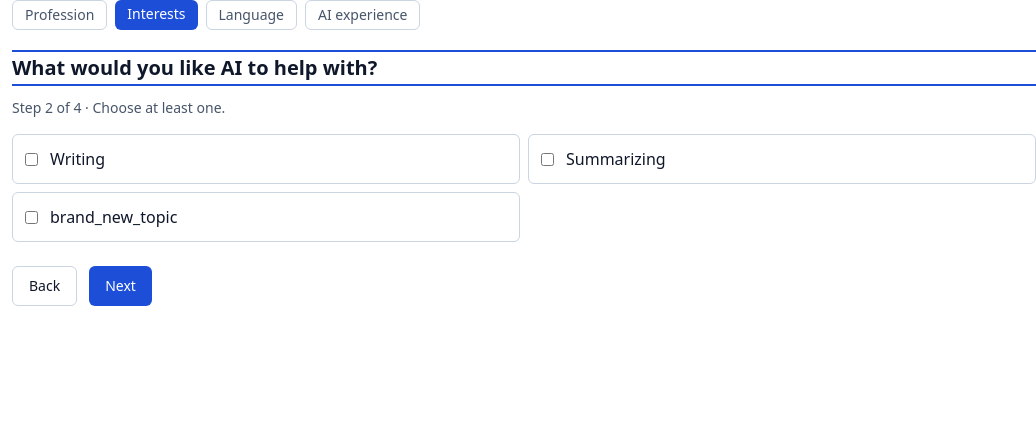
Scenario: OnboardingStepper › collects interests, names the ones it has text for, and shows other codes as they are
Expected: the heading "What would you like AI to help with?" is shown, [12,54,377,81]
Click the checkbox labelled "Writing".
click(32, 159)  # box [25,152,38,166]
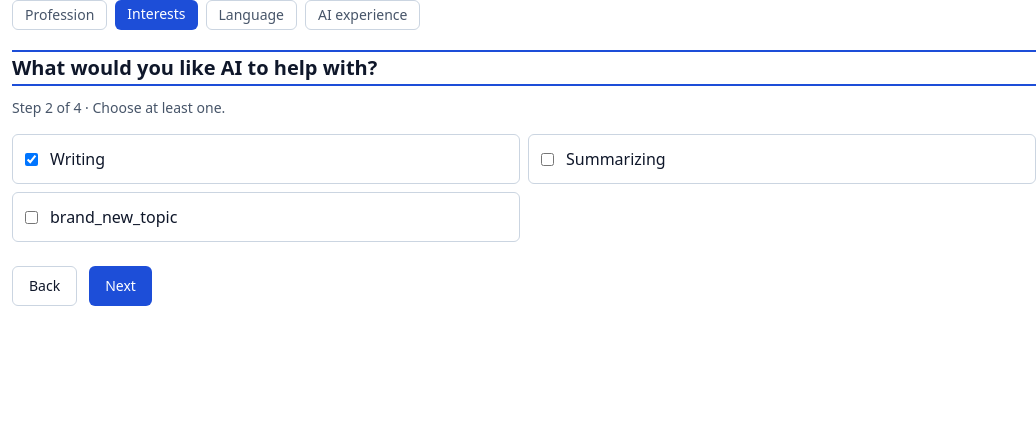
Click the checkbox labelled "brand_new_topic".
click(32, 217)  # box [25,210,38,224]
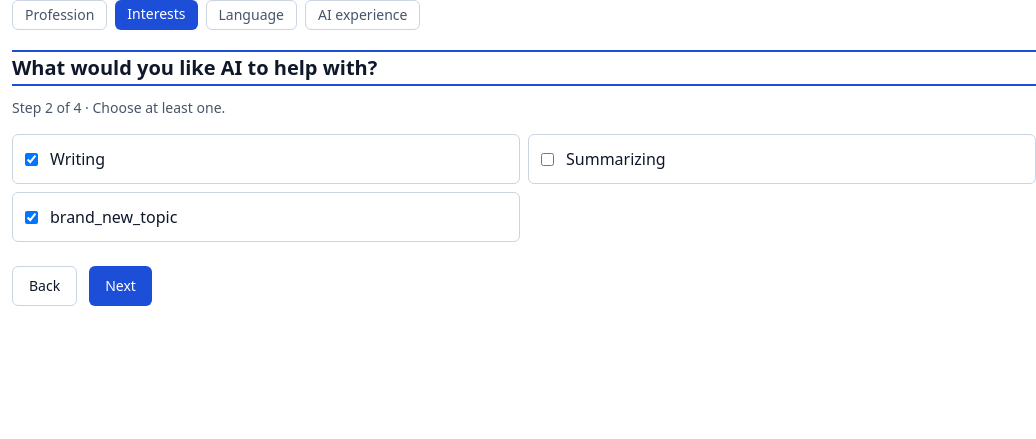
Click the checkbox labelled "Writing".
click(32, 159)  # box [25,152,38,166]
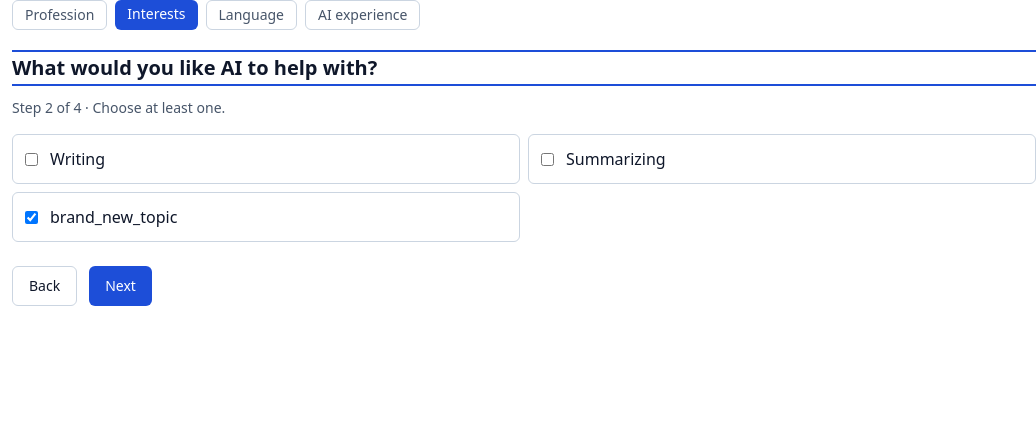
Click the button "Next".
click(121, 286)  # box [89,266,152,306]
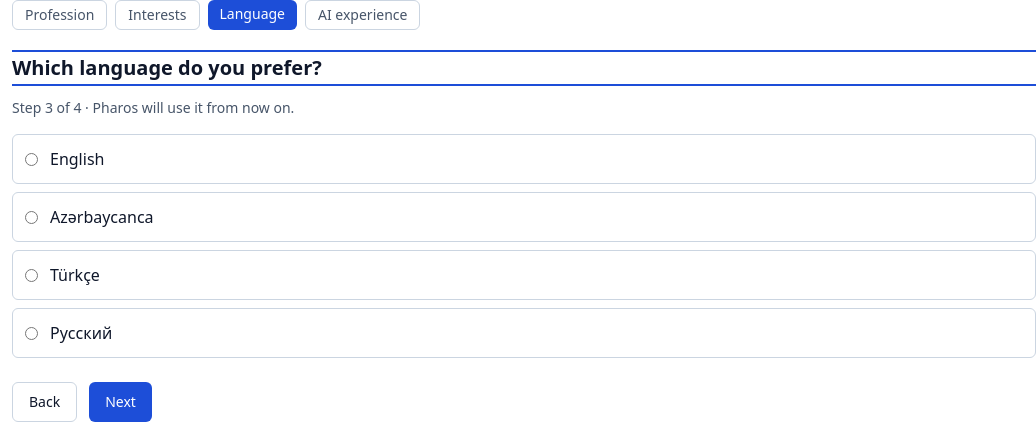
Expected: the heading reads "Which language do you prefer?", [12,54,322,81]
